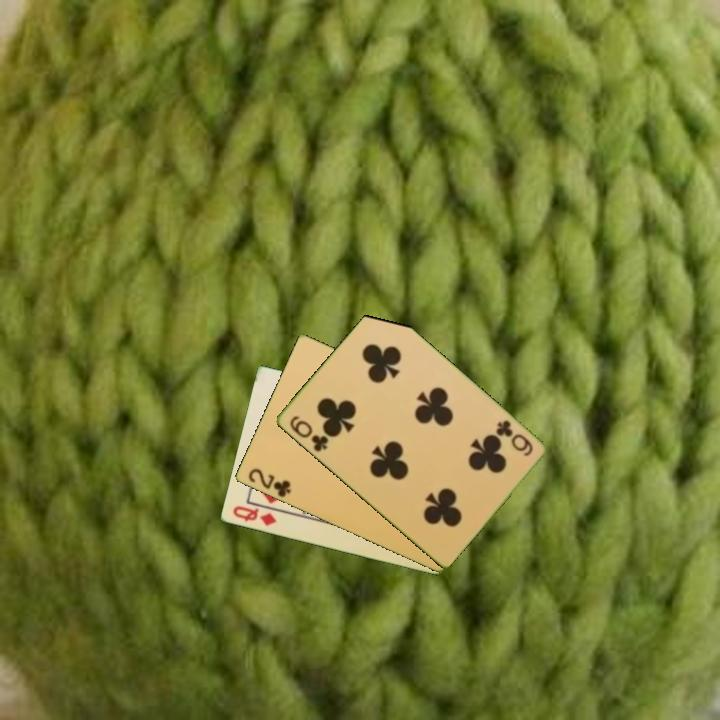2c: (244, 465, 293, 500)
6c: (286, 412, 331, 455), (492, 416, 536, 459)
Qd: (229, 502, 279, 529)
